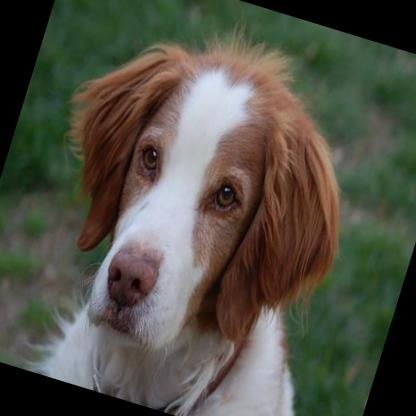Brittany_spaniel: (0, 0, 409, 416)
